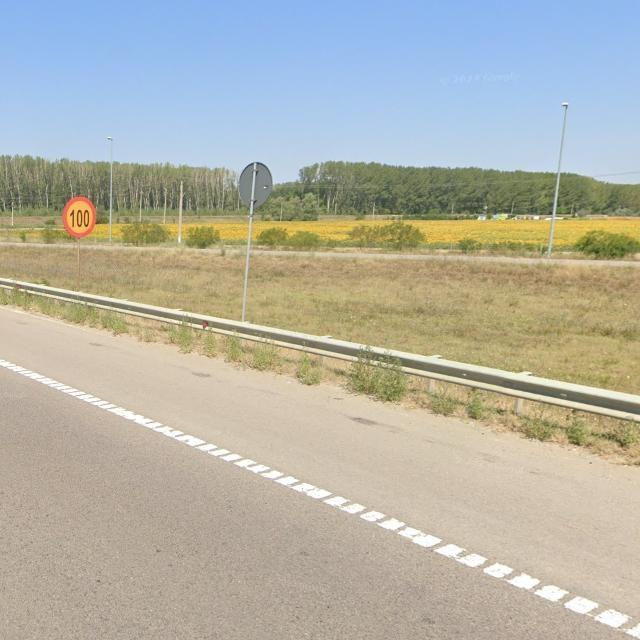forb_speed_over_100: (62, 197, 96, 237)
